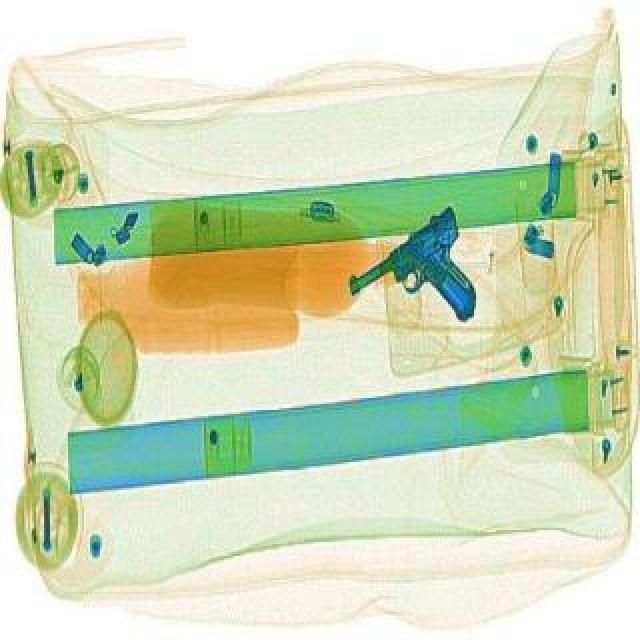gun: (332, 208, 478, 346)
